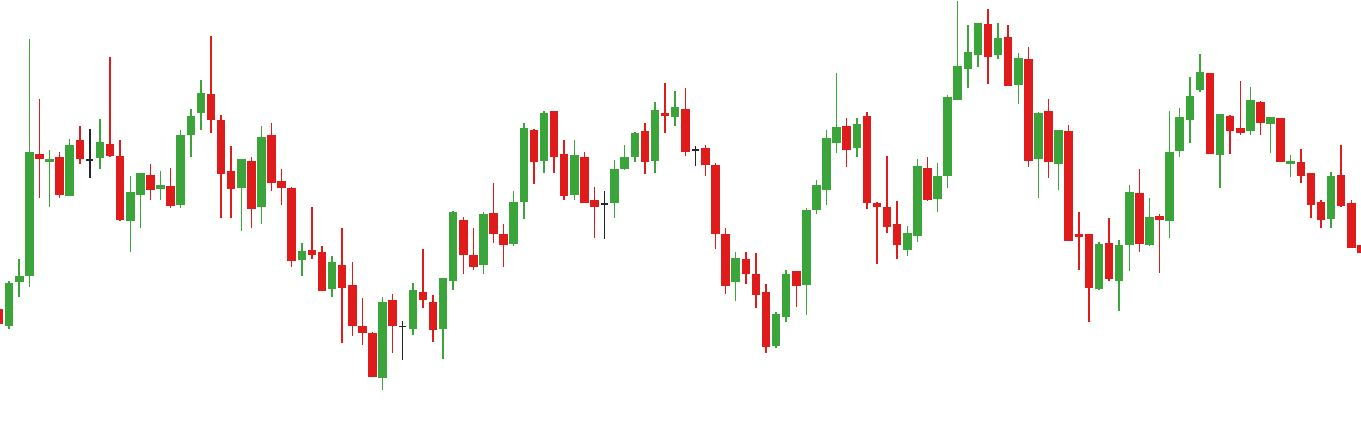sell: (104, 24, 218, 171)
